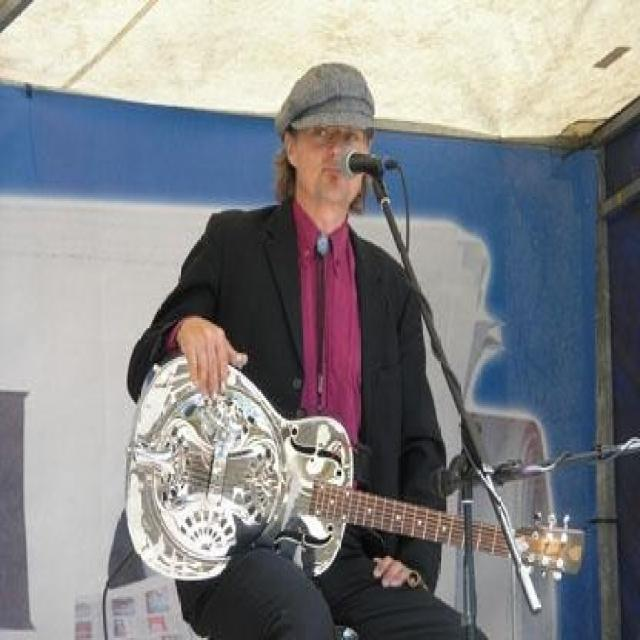guitar: (125, 346, 583, 589)
